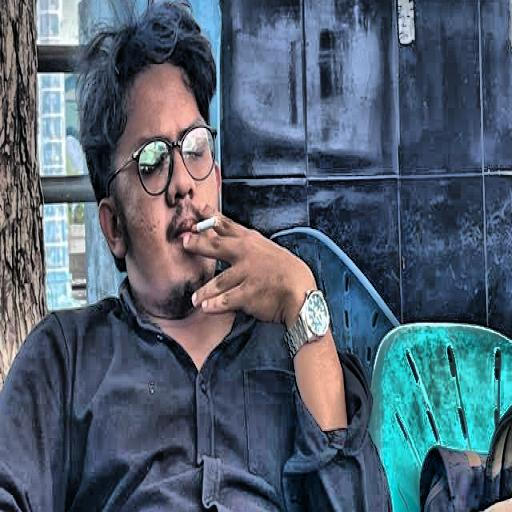Asbak: (194, 218, 218, 232)
Merokok: (100, 156, 314, 364), (294, 331, 344, 428), (128, 67, 198, 134)
